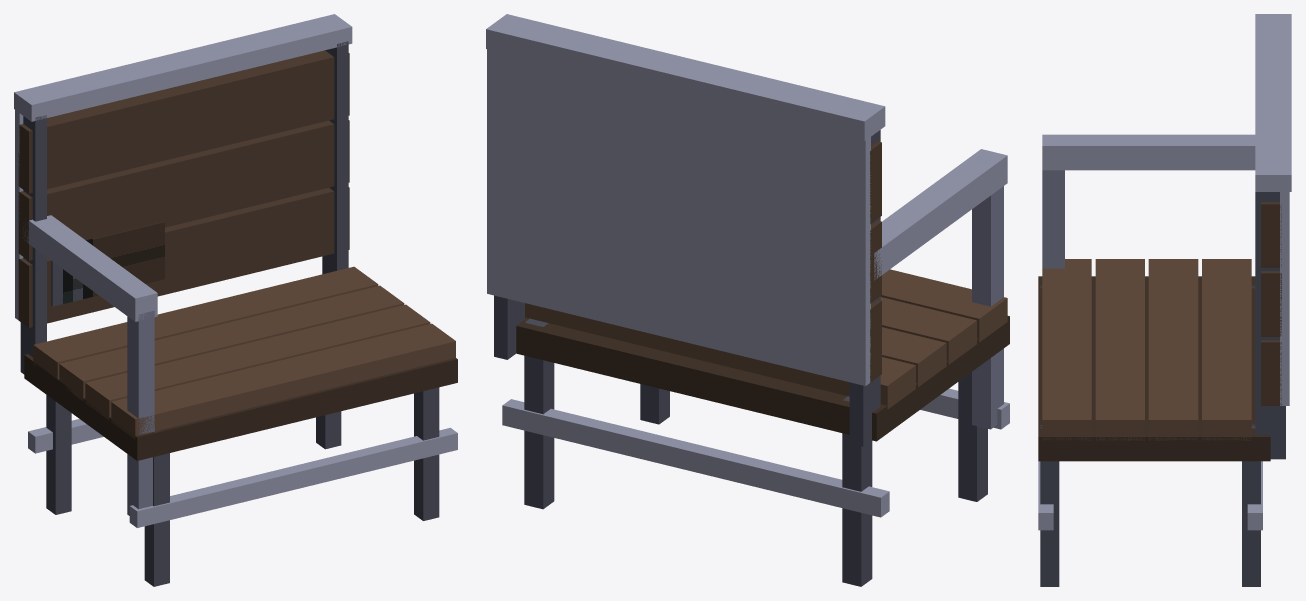
The model's file is CMU3DInheritedStructureRMCCouchEndUpperBrownCloud.glb.
3 renders of one model, left to right at view 1: azimuth 30°, elevation 25°; view 2: azimuth 150°, elevation 25°; view 3: azimuth 270°, elevation 25°, orthographic. The views are drawn at different scales.
Parts seen in each view (by area): view 1: front wood back panel 2, front wood back panel 1, front wood back panel 0, wood seat board 0, silver top rail, seat structural frame, wood seat board 1, wood seat board 2, wood seat board 3, continuous under-seat rail -0.29, handed armrest, handed arm upright (+9 smaller); view 2: rear sheet metal backing, seat structural frame, silver top rail, continuous under-seat rail 0.26, handed armrest, wood seat board 3, handed arm upright, short steel leg (0.42, 0.25), short steel leg (-0.42, 0.25), wood seat board 0, wood seat board 1, short steel leg (-0.42, -0.28) (+8 smaller); view 3: seat structural frame, wood seat board 2, wood seat board 1, wood seat board 3, wood seat board 0, handed armrest, silver top rail, back support 0.47, handed arm upright, rear sheet metal backing, short steel leg (0.42, -0.28), short steel leg (0.42, 0.25) (+5 smaller).
Boxes of the visible parts, x1,y1,x2,y2 form: front wood back panel 2: (18,50,349,193); front wood back panel 1: (18,120,349,260); front wood back panel 0: (18,187,349,327); wood seat board 0: (111,323,455,438); silver top rail: (14,14,352,121); seat structural frame: (24,354,457,460); wood seat board 1: (85,304,430,419); wood seat board 2: (59,285,404,400); wood seat board 3: (33,266,378,379); continuous under-seat rail -0.29: (129,427,457,527); handed armrest: (23,215,157,321); handed arm upright: (127,310,154,515); rear sheet metal backing: (487,49,870,385); seat structural frame: (516,316,1009,441); silver top rail: (486,14,885,141); continuous under-seat rail 0.26: (502,399,889,517); handed armrest: (874,149,1007,280); wood seat board 3: (525,303,915,409); handed arm upright: (972,186,1003,429); short steel leg (0.42, 0.25): (524,318,554,509); short steel leg (-0.42, 0.25): (842,396,872,586); wood seat board 0: (880,269,1007,342); wood seat board 1: (880,297,976,364); short steel leg (-0.42, -0.28): (958,372,987,501); seat structural frame: (1038,276,1270,461); wood seat board 2: (1148,259,1198,440); wood seat board 1: (1095,259,1144,440); wood seat board 3: (1202,259,1251,440); wood seat board 0: (1042,259,1091,440); handed armrest: (1042,134,1255,170); silver top rail: (1255,14,1291,191); back support 0.47: (1255,192,1285,459); handed arm upright: (1042,170,1064,268); rear sheet metal backing: (1280,185,1289,405); short steel leg (0.42, -0.28): (1040,425,1059,586); short steel leg (0.42, 0.25): (1242,423,1260,586).
Size of the model in its own units: 1 by 1.22 by 0.665.
Materials: 7 (1 with a texture image).
